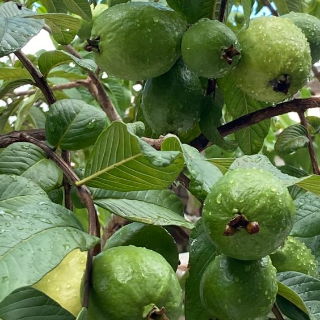oi: (204, 166, 293, 261), (92, 2, 180, 78), (183, 15, 240, 76)
